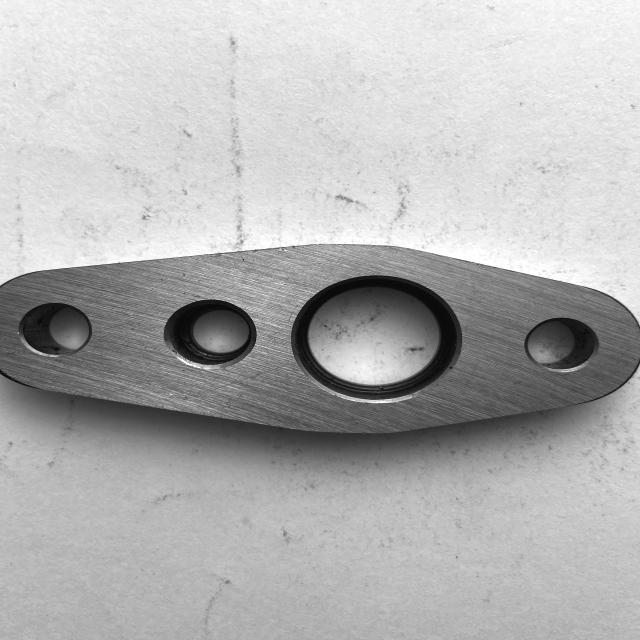chap: (14, 332, 20, 336)
lines: (208, 372, 268, 392)
